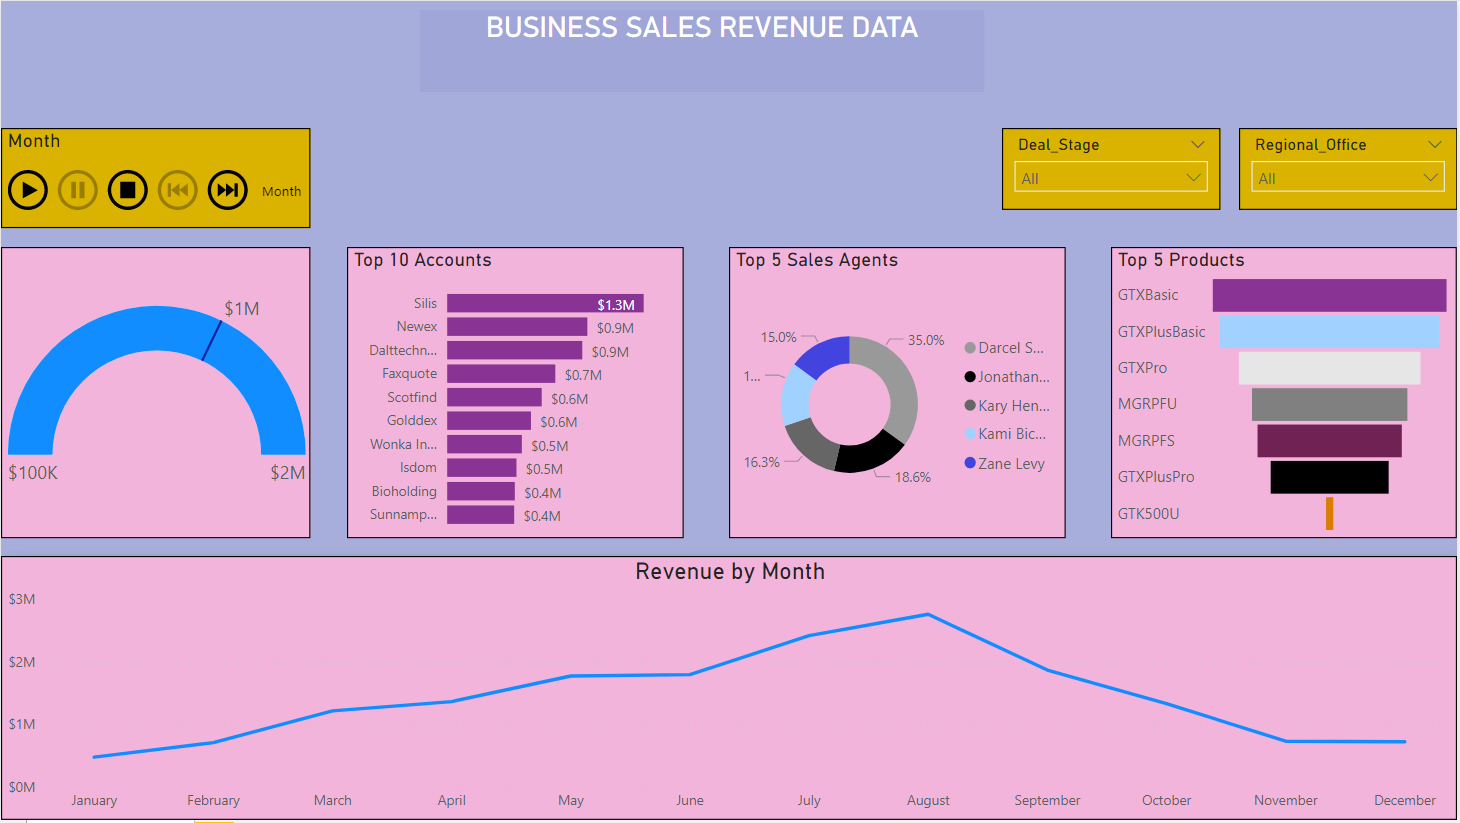

This screenshot's page, from the dashboard's own definition file:
{"tool":"powerbi","page":{"name":"Business Sales Revenue","canvas":[1280,720],"ordinal":0},"visuals":[{"type":"clusteredBarChart","title":"Top 10 Accounts","fields":{"Y":["Query1.Revenue"],"Category":["Query1.Account"]},"box":[304,216,296,256],"z":0},{"type":"gauge","title":"Target","fields":{"Y":["Query1.Revenue"]},"box":[0,216,272,256],"z":1000},{"type":"slicer","fields":{"Values":["Query1.Regional_Office"]},"box":[1088,112,192,72],"z":2000},{"type":"donutChart","title":"Top 5 Sales Agents","fields":{"Category":["Query1.Sales_Agent"],"Y":["Query1.Revenue"]},"box":[640,216,296,256],"z":3000},{"type":"lineChart","fields":{"Y":["Query1.Revenue"],"Category":["Query1.Created_On.Variation.Date Hierarchy.Month"]},"box":[0,488,1280,232],"z":4000},{"type":"funnel","title":"Top 5 Products","fields":{"Category":["Query1.Product"],"Y":["Query1.Revenue"]},"box":[976,216,304,256],"z":5000},{"type":"slicer","fields":{"Values":["Query1.Deals Won"]},"box":[880,112,192,72],"z":6000},{"type":"PBI_CV_16948668_E17D_454B_8664_2F2C470EA8C1","fields":{"category":["Query1.Created_On.Variation.Date Hierarchy.Month"]},"box":[0,112,272,88],"z":7000},{"type":"textbox","title":"BUSINESS SALES REVENUE DATA","box":[368,8,496,72],"z":8000}]}

Visuals, with their boxes in screenshot pixels (x1, y1, x2, y2), scaled from the page's 1280x720 canvas onto the 1460x823 screenshot:
"Top 10 Accounts" clusteredBarChart: x1=347, y1=247, x2=684, y2=540
"Target" gauge: x1=0, y1=247, x2=310, y2=540
slicer - Query1.Regional_Office: x1=1241, y1=128, x2=1459, y2=210
"Top 5 Sales Agents" donutChart: x1=730, y1=247, x2=1068, y2=540
lineChart - Query1.Revenue x Query1.Created_On.Variation.Date Hierarchy.Month: x1=0, y1=558, x2=1459, y2=822
"Top 5 Products" funnel: x1=1113, y1=247, x2=1459, y2=540
slicer - Query1.Deals Won: x1=1004, y1=128, x2=1223, y2=210
PBI_CV_16948668_E17D_454B_8664_2F2C470EA8C1 - Query1.Created_On.Variation.Date Hierarchy.Month: x1=0, y1=128, x2=310, y2=229
"BUSINESS SALES REVENUE DATA" textbox: x1=420, y1=9, x2=986, y2=91
